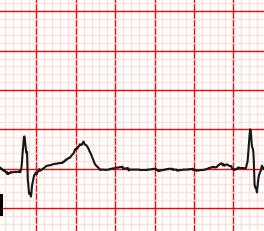LVH: (59, 138, 106, 176)
Poor R Progression: (15, 134, 37, 176)
ST Depression: (12, 166, 47, 200)
